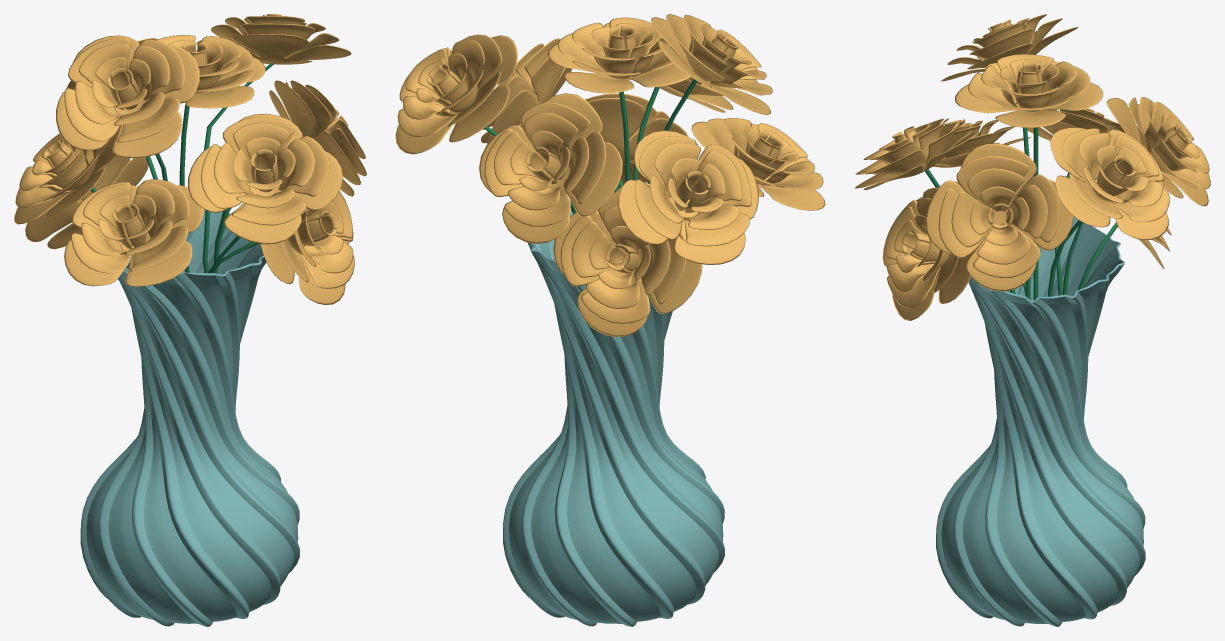
The model's file is flowers.fbx.
3 views of the same model, side by side, from view 1: azimuth 30°, elevation 25°; view 2: azimuth 150°, elevation 25°; view 3: azimuth 270°, elevation 25° (orthographic). The views are drawn at different scales.
Visible parts, largest first — view 1: vase1, flower2, flower4, flower1, flower3, flower5, flower8, flower9, flower10, flower6; view 2: vase1, flower7, flower5, flower6, flower8, flower9, flower4, flower1, flower10, flower3, flower2; view 3: vase1, flower10, flower8, flower9, flower3, flower7, flower2, flower4, flower1, flower5, flower6.
Part boxes in pixels (<box>): vase1: <box>80,209,299,626</box>; flower2: <box>188,113,343,273</box>; flower4: <box>56,35,199,181</box>; flower1: <box>64,179,204,286</box>; flower3: <box>210,191,354,305</box>; flower5: <box>14,126,119,224</box>; flower8: <box>196,14,351,273</box>; flower9: <box>156,35,265,272</box>; flower10: <box>213,80,366,273</box>; flower6: <box>25,155,148,249</box>; vase1: <box>503,209,724,626</box>; flower7: <box>479,93,622,243</box>; flower5: <box>618,130,758,264</box>; flower6: <box>553,182,702,336</box>; flower8: <box>395,34,576,213</box>; flower9: <box>548,17,690,182</box>; flower4: <box>647,14,772,183</box>; flower1: <box>691,118,825,210</box>; flower10: <box>480,38,619,192</box>; flower3: <box>585,93,688,187</box>; flower2: <box>633,77,733,180</box>; vase1: <box>936,217,1145,626</box>; flower10: <box>925,143,1073,291</box>; flower8: <box>1047,127,1169,296</box>; flower9: <box>955,54,1103,300</box>; flower3: <box>882,181,1014,320</box>; flower7: <box>1062,97,1210,294</box>; flower2: <box>855,118,1015,293</box>; flower4: <box>941,14,1078,299</box>; flower1: <box>933,119,1031,299</box>; flower5: <box>1022,108,1125,295</box>; flower6: <box>1078,222,1171,290</box>.
Size of the model in its own units: 35.28 by 57.04 by 33.5.
